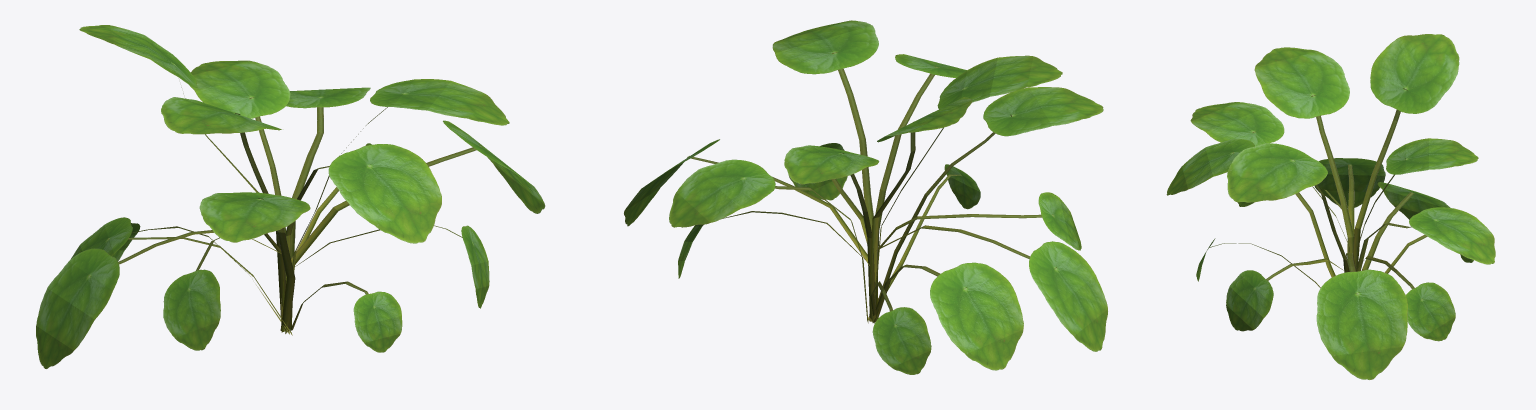
File: Pilea4.fbx
The picture shows the model from 3 angles, left to right: view 1: azimuth 30°, elevation 25°; view 2: azimuth 150°, elevation 25°; view 3: azimuth 270°, elevation 25°; orthographic projection. The views are drawn at different scales.
Parts seen in each view (by area): view 1: Pilea.016; view 2: Pilea.016; view 3: Pilea.016.
Part boxes in pixels (x1,y1,x2,y2): Pilea.016: (36,25,545,368); Pilea.016: (624,20,1107,374); Pilea.016: (1166,34,1495,379).
Size of the model in its own units: 205 by 118 by 162.
